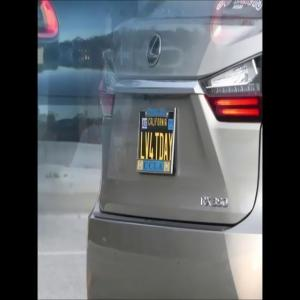Plate: (138, 111, 175, 175)
